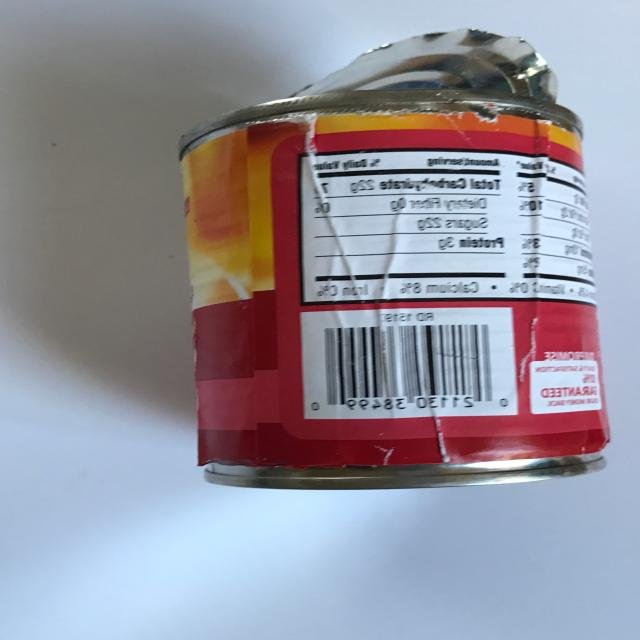metal: (177, 27, 611, 490)
